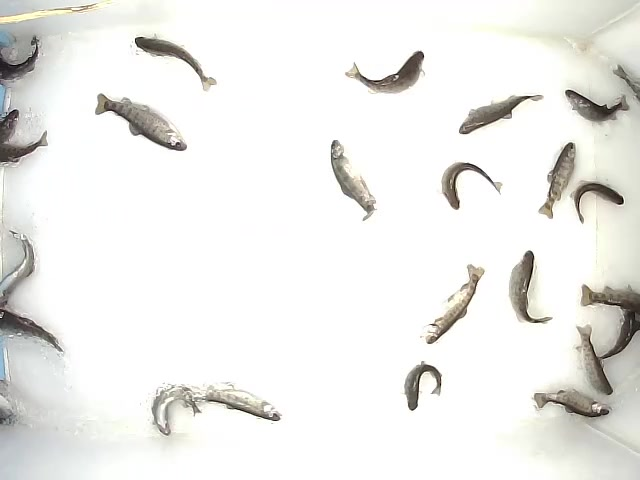fish: (95, 92, 189, 152), (423, 262, 486, 346), (134, 34, 218, 93), (184, 380, 283, 423), (330, 138, 378, 223), (344, 48, 427, 95), (458, 92, 546, 135), (507, 249, 553, 324), (438, 161, 503, 212), (1, 307, 65, 358), (538, 141, 578, 220), (573, 323, 614, 396), (531, 387, 614, 421), (1, 230, 37, 308), (569, 179, 625, 226), (151, 384, 201, 436), (563, 88, 632, 125), (598, 307, 640, 363), (402, 359, 444, 412), (580, 283, 640, 316), (1, 36, 41, 82), (1, 129, 49, 164), (612, 63, 640, 103)
